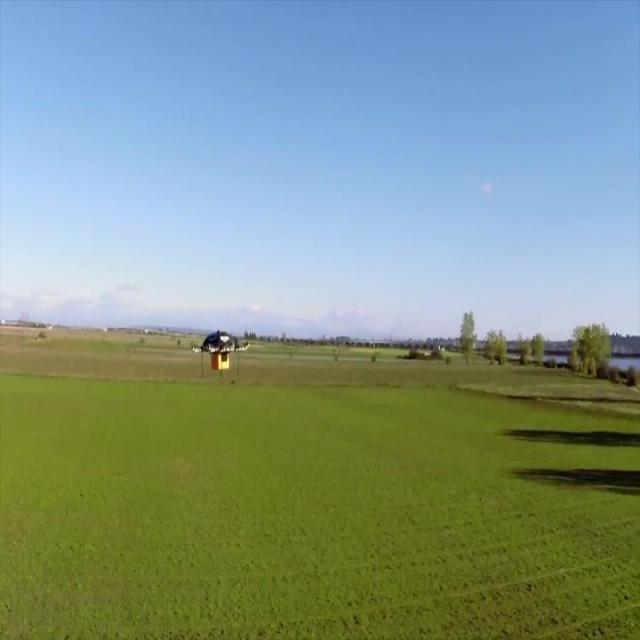UAV: (190, 330, 250, 378)
